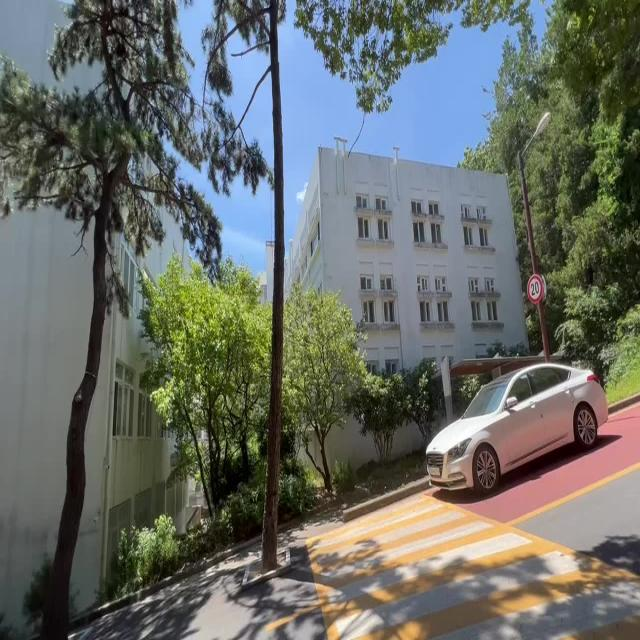building: (323, 115, 530, 348)
